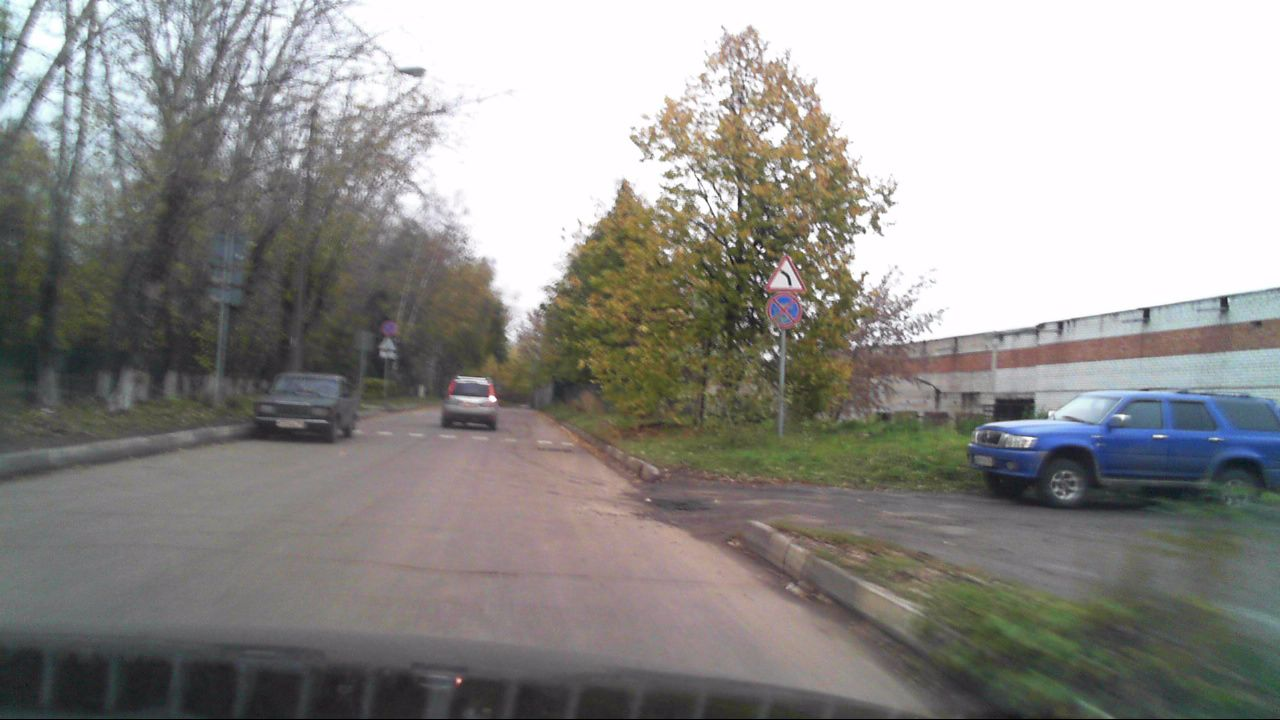No Parking: (766, 294, 801, 326)
